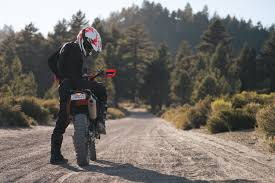motorcycle: (62, 67, 117, 167)
